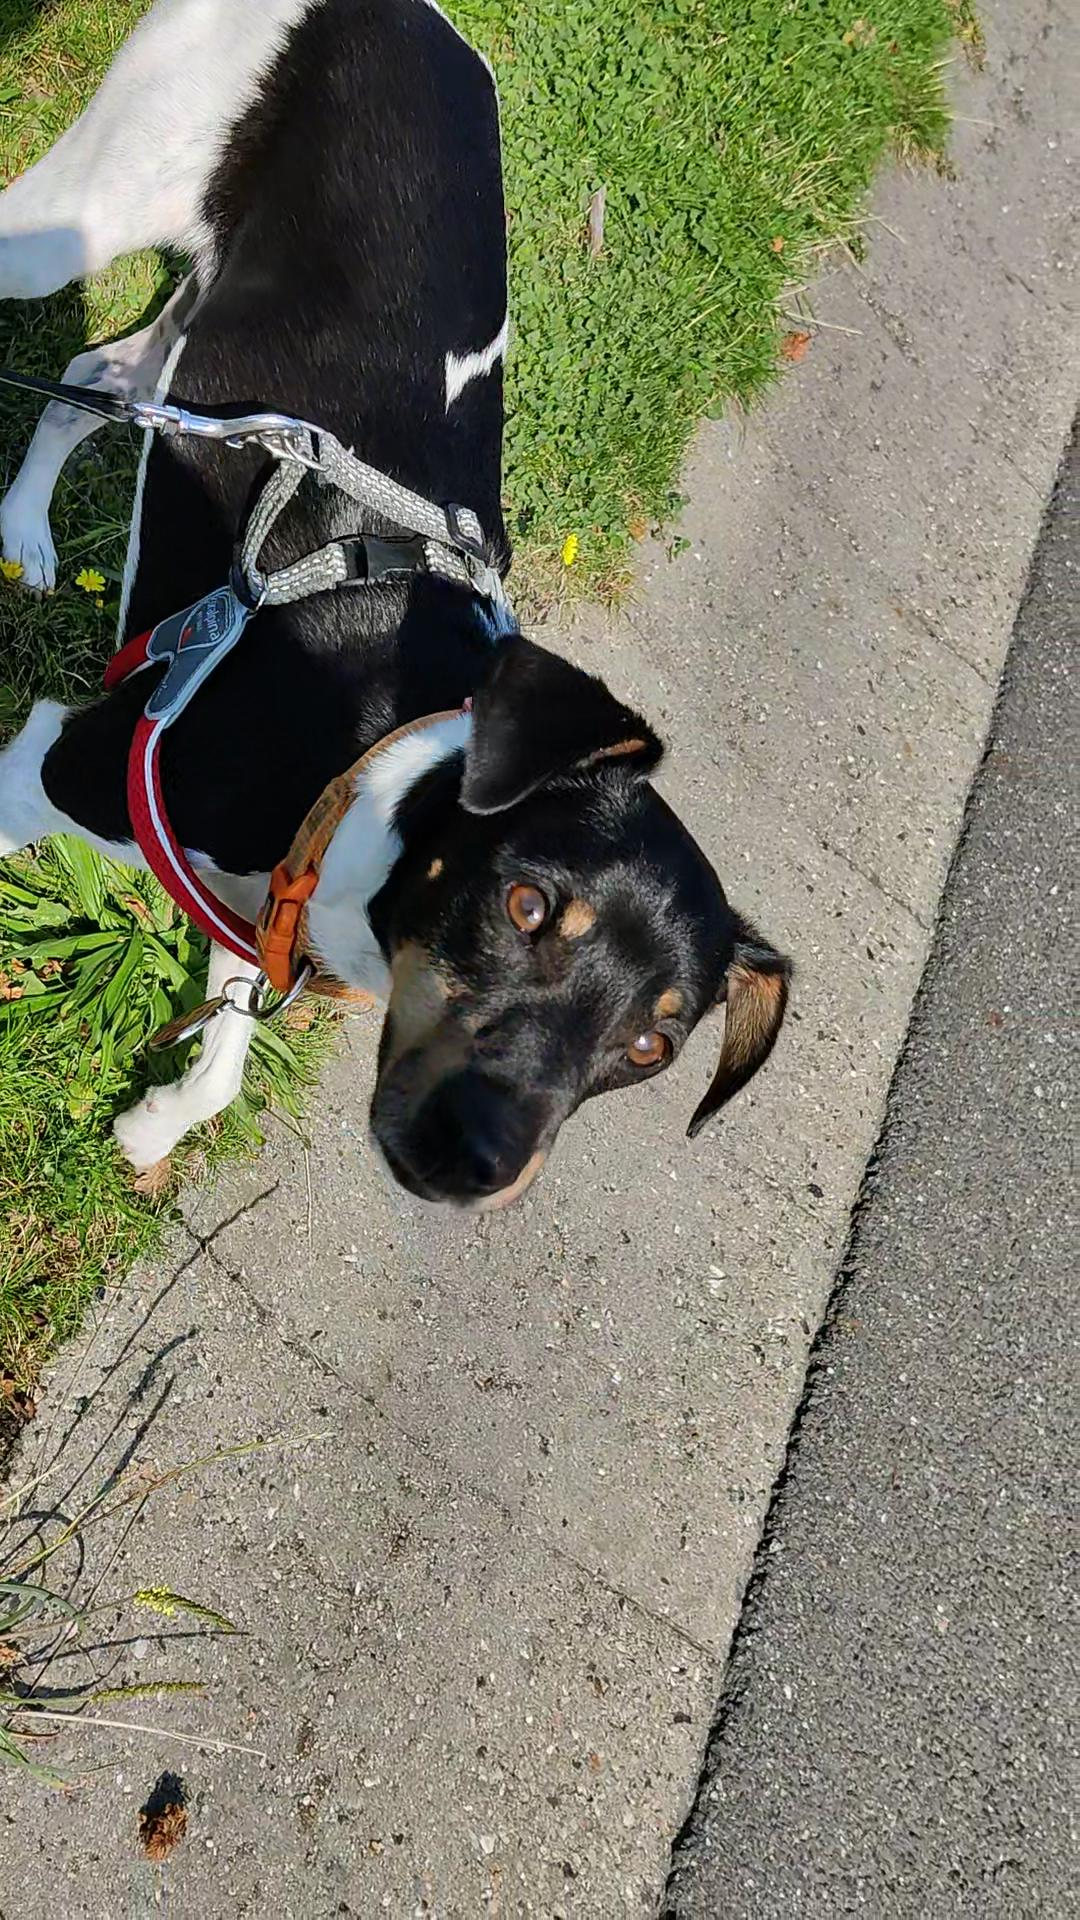Dog: (0, 0, 800, 1211)
